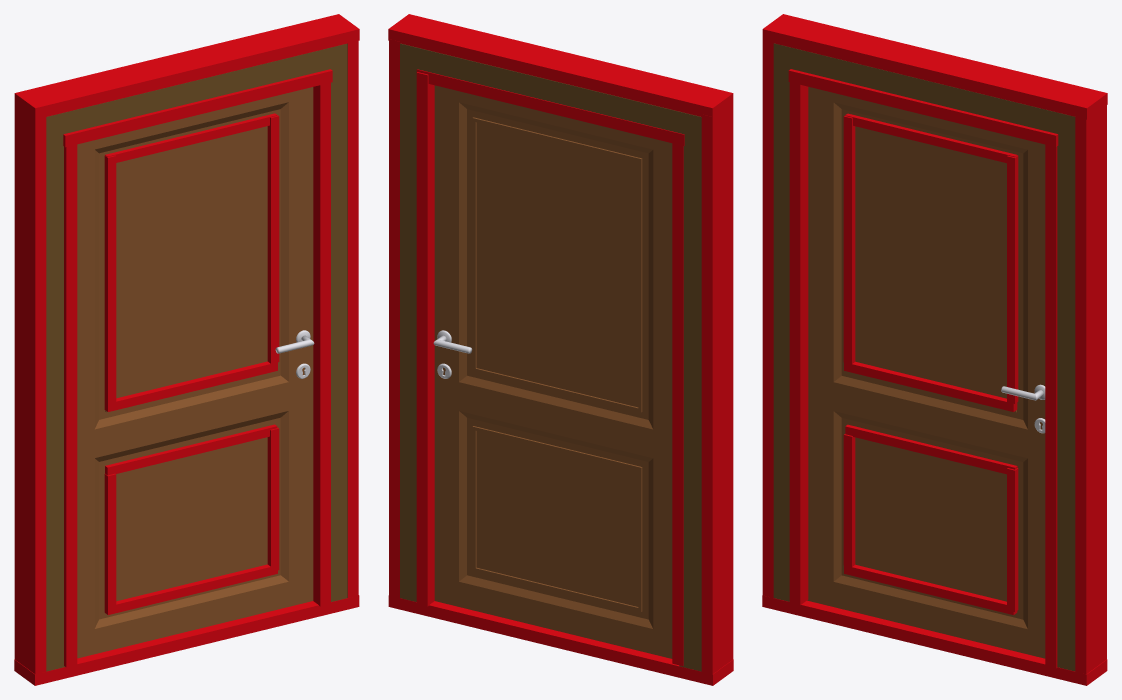
File: Door_Outlined.gltf
3 renders of one model, left to right at view 1: azimuth 30°, elevation 25°; view 2: azimuth 150°, elevation 25°; view 3: azimuth 330°, elevation 25°, orthographic.
Parts seen in each view (by area): view 1: Door1, Frame, Cube.001, Cube.002, Cube.004, Cube.005, Cube, Cube.003, Cube.006, Cube.009, Cube.010, Cube.008 (+6 smaller); view 2: Door1, Frame, Cube.001, Cube.002, Cube.004, Cube.005, Cube, Cube.003, Cube.006, Lock; view 3: Door1, Frame, Cube, Cube.002, Cube.005, Cube.004, Cube.001, Cube.003, Cube.006, Cube.009, Cube.010, Cube.008 (+6 smaller).
Part boxes in pixels (x1,y1,x2,y2): Door1: (77,87,313,658); Frame: (46,43,347,671); Cube.001: (14,105,46,674); Cube.002: (14,14,359,119); Cube.004: (313,82,330,606); Cube.005: (64,133,77,667); Cube: (347,41,358,597); Cube.003: (14,595,359,685); Cube.006: (63,69,332,147); Cube.009: (104,155,116,403); Cube.010: (267,114,279,363); Cube.008: (104,361,277,411); Door1: (434,85,672,658); Frame: (400,43,701,671); Cube.001: (701,105,733,676); Cube.002: (388,14,733,119); Cube.004: (416,72,434,606); Cube.005: (672,132,683,666); Cube: (389,39,399,600); Cube.003: (388,595,733,685); Cube.006: (416,69,684,145); Lock: (433,330,472,378); Door1: (807,87,1045,658); Frame: (773,43,1075,671); Cube: (1075,105,1106,674); Cube.002: (762,14,1107,119); Cube.005: (789,71,808,605); Cube.004: (1045,144,1057,668); Cube.001: (762,40,773,597); Cube.003: (762,595,1107,685); Cube.006: (788,69,1058,146); Cube.009: (843,115,855,363); Cube.010: (1007,155,1018,403); Cube.008: (844,361,1017,411).
Size of the model in its own units: 128 by 217 by 17.72.
